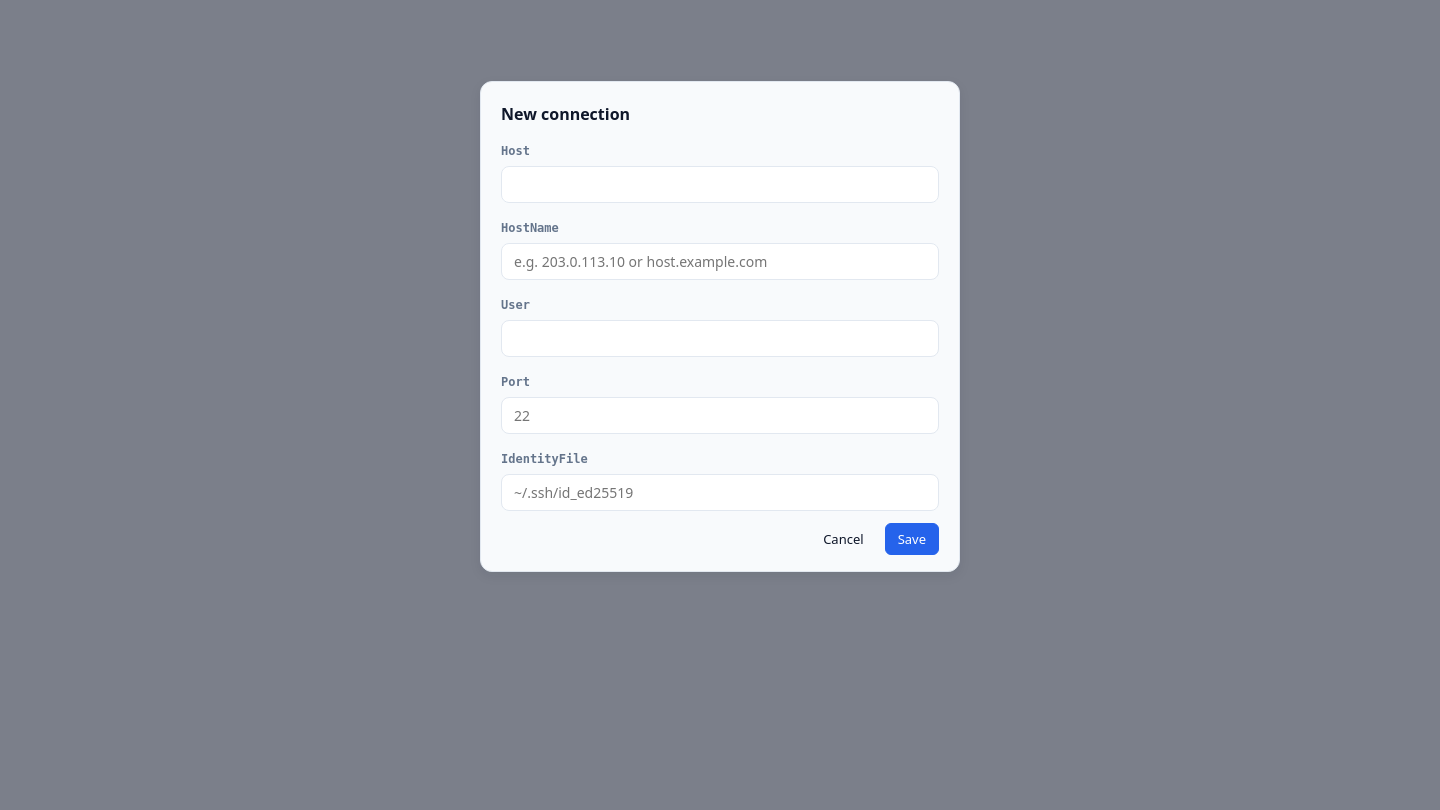
Test: SshHostForm › shows a backend error inline and keeps the form open
This screenshot has width=1440, height=810.
Type "newbox" into the field labelled "Host" at (720, 184), box [501,166,939,203]
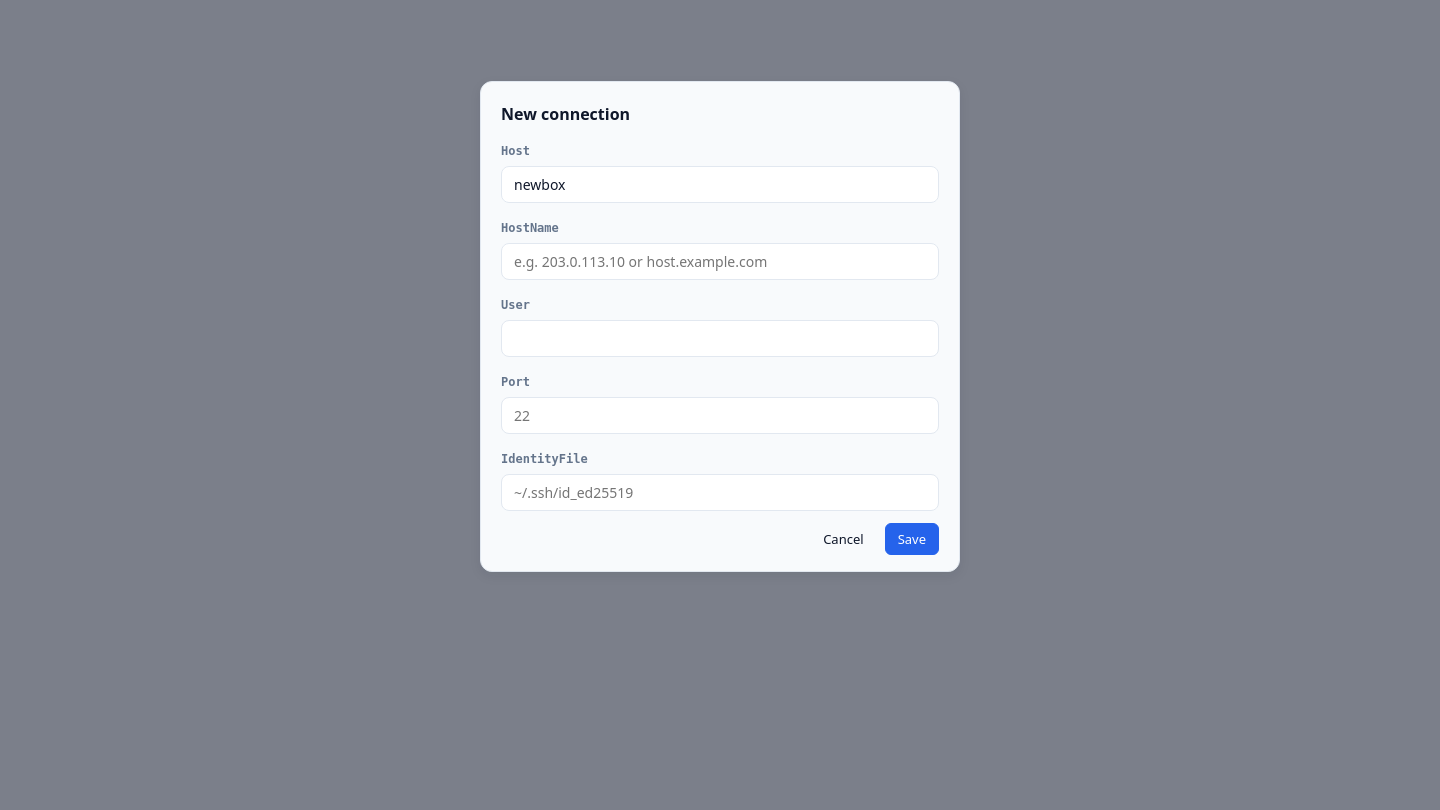
Click the button "Save" at (912, 539), box [885,523,939,555]
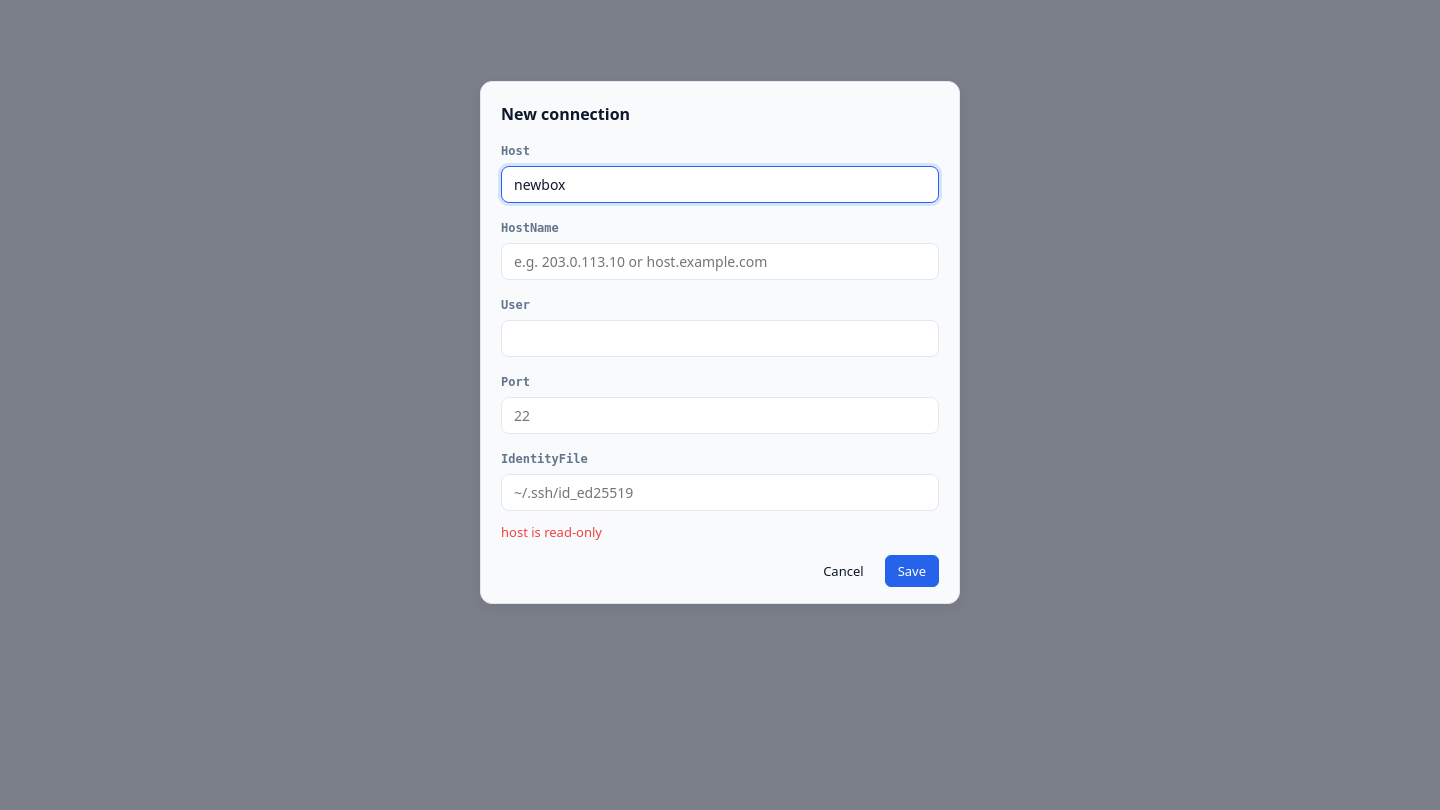
Expected: the text "host is read-only" is shown, [501,523,602,541]
